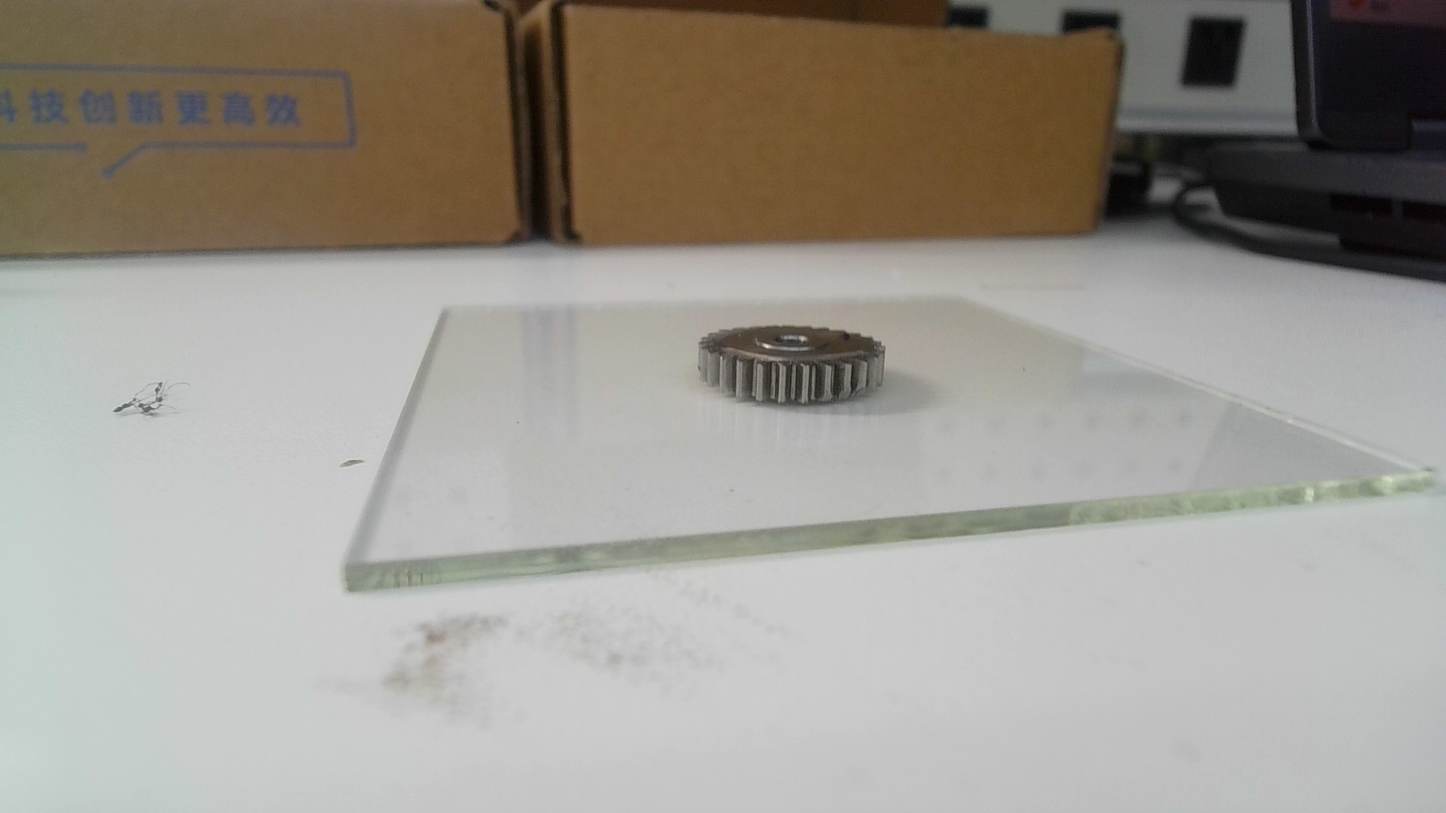gear: (698, 325, 890, 409)
